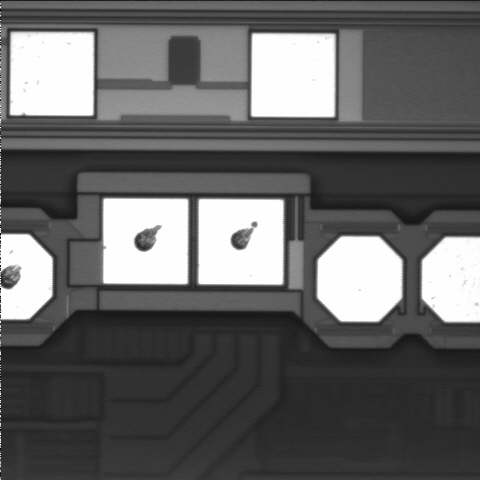pad: (198, 199, 283, 285), (103, 199, 188, 284), (317, 237, 402, 322), (10, 32, 94, 116), (251, 34, 335, 117)
